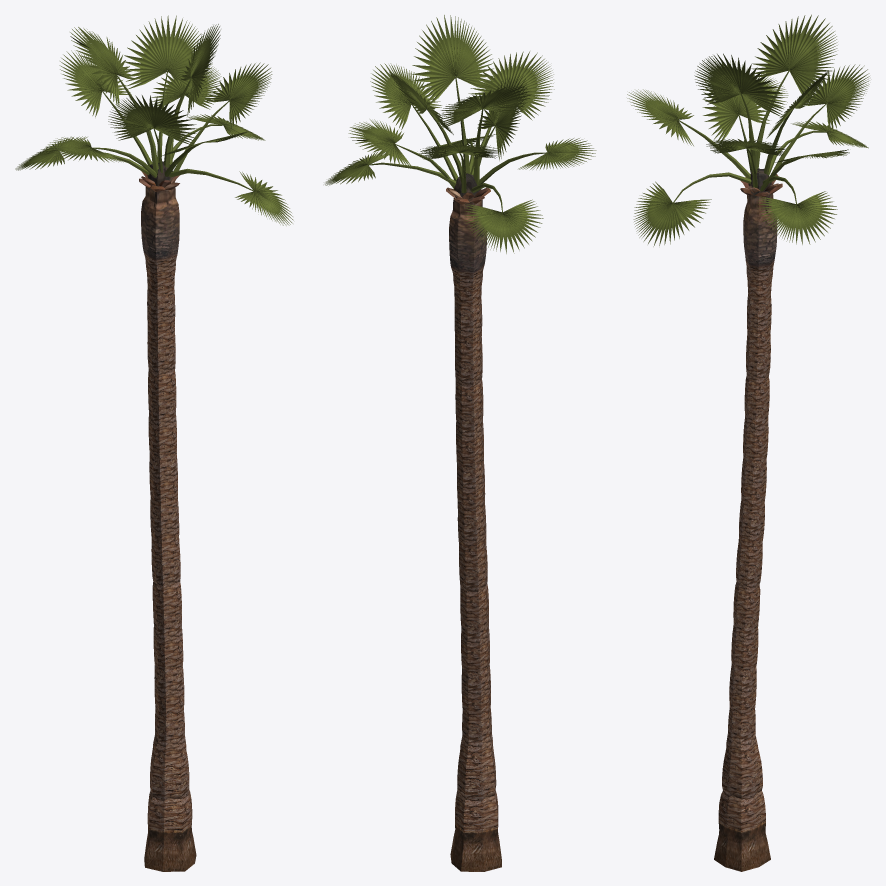
File: sabalPalmeto.obj
3 renders of one model, left to right at view 1: azimuth 30°, elevation 25°; view 2: azimuth 150°, elevation 25°; view 3: azimuth 270°, elevation 25°, orthographic.
Visible parts, largest first — view 1: trunk_Palm_trunk, Leaf_Circle_Leaves; view 2: trunk_Palm_trunk, Leaf_Circle_Leaves; view 3: trunk_Palm_trunk, Leaf_Circle_Leaves.
Boxes of the visible parts, x1,y1,x2,y2 form: trunk_Palm_trunk: (141,161,196,871); Leaf_Circle_Leaves: (15,15,293,225); trunk_Palm_trunk: (449,173,501,871); Leaf_Circle_Leaves: (325,15,596,253); trunk_Palm_trunk: (714,168,777,871); Leaf_Circle_Leaves: (627,14,869,246).
Size of the model in its own units: 347 by 1150 by 310.
